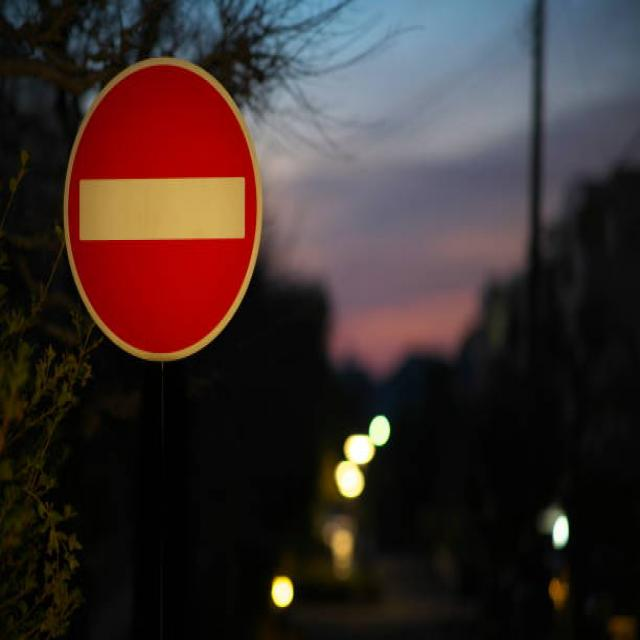do_not_enter: (57, 58, 267, 360)
